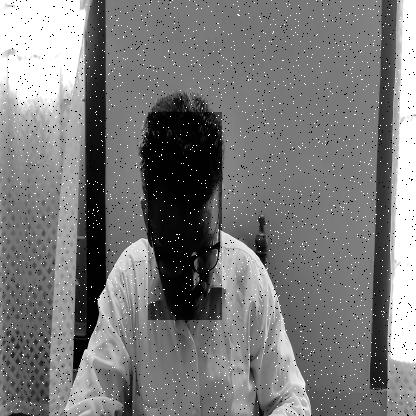Normal: (148, 112, 222, 320)
